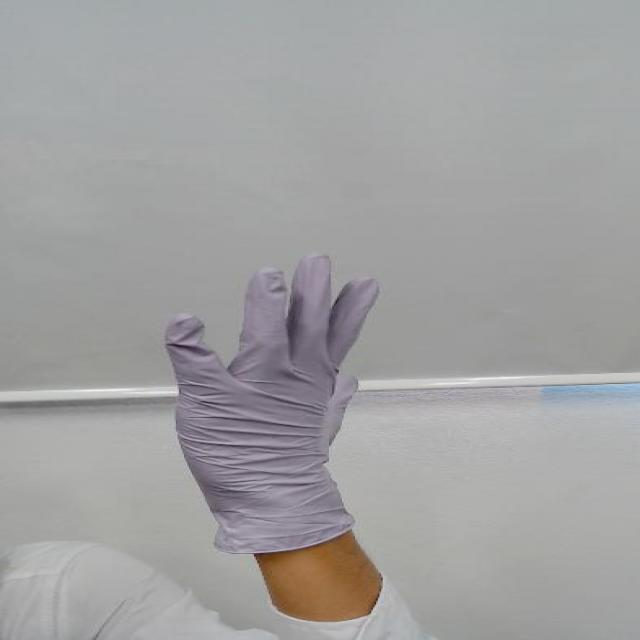with_gloves: (126, 243, 395, 523)
